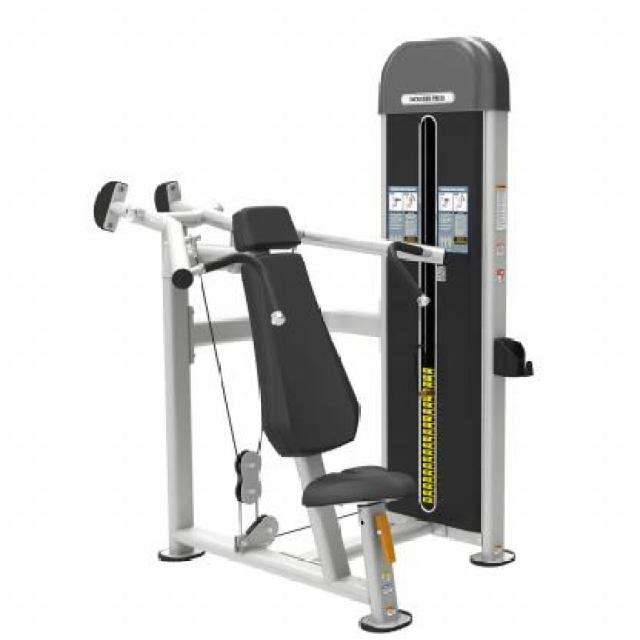shoulder press machine: (84, 30, 530, 628)
